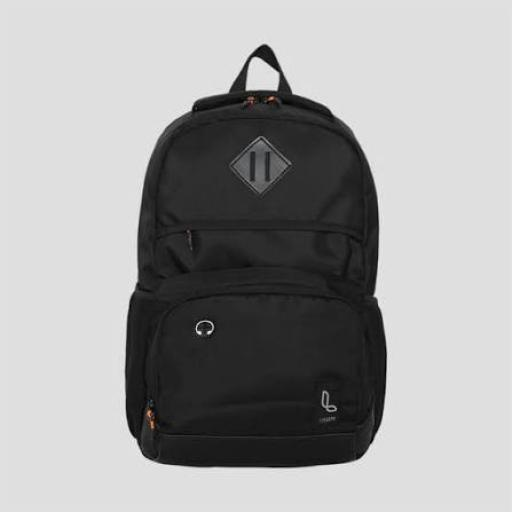tas ransel: (125, 44, 389, 470)
